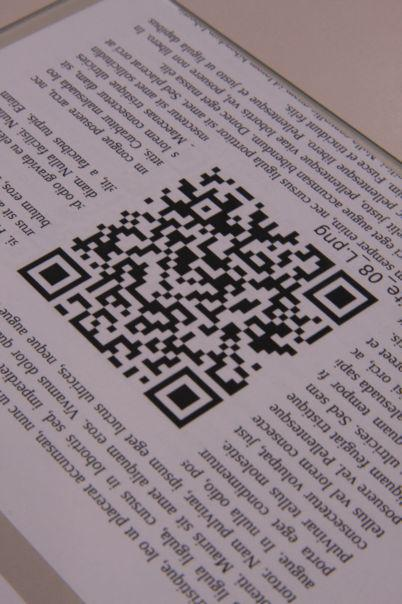Finder pattern: (142, 365, 226, 431), (15, 245, 95, 305), (306, 268, 378, 328)
